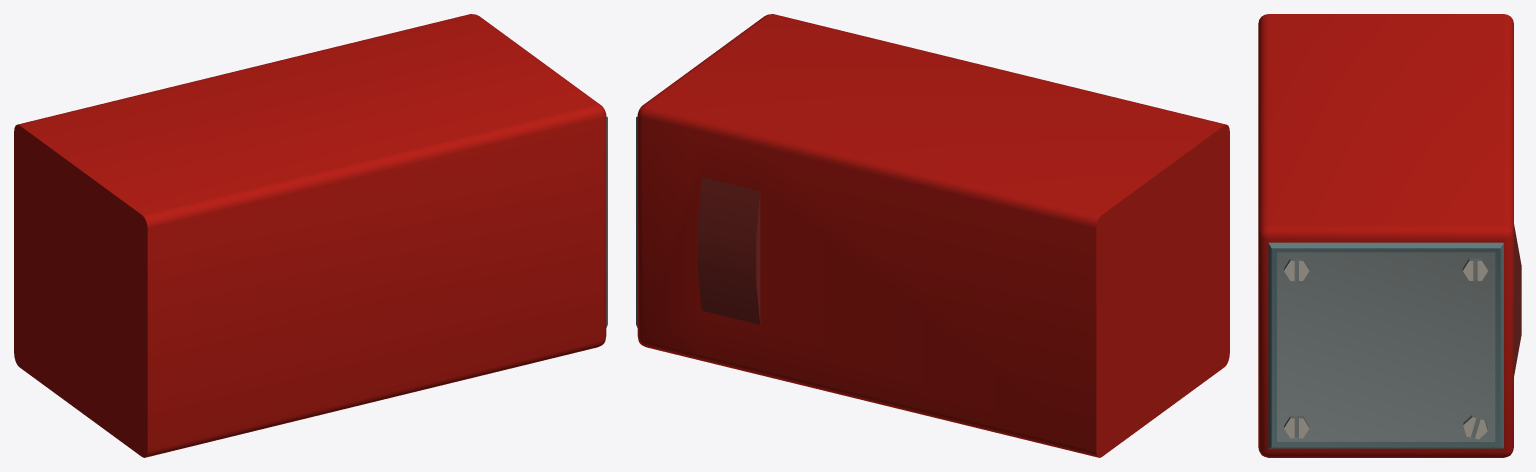
Rendered from WirewaySmall.fbx.
3 renders of one model, left to right at view 1: azimuth 30°, elevation 25°; view 2: azimuth 150°, elevation 25°; view 3: azimuth 270°, elevation 25°, orthographic. The views are drawn at different scales.
Parts seen in each view (by area): view 1: BuildState0; view 2: BuildState0; view 3: BuildState0.
Part boxes in pixels (x1=…): BuildState0: x1=14, y1=14, x2=607, y2=457; BuildState0: x1=636, y1=14, x2=1229, y2=457; BuildState0: x1=1258, y1=14, x2=1521, y2=457.
Size of the model in its own units: 0.515 by 0.5 by 1.02.
